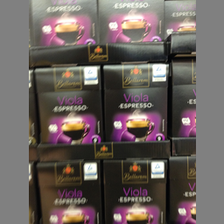coffee: (102, 62, 169, 143), (35, 65, 101, 146), (36, 159, 101, 224), (102, 159, 167, 224), (31, 1, 100, 47), (99, 1, 166, 44)
